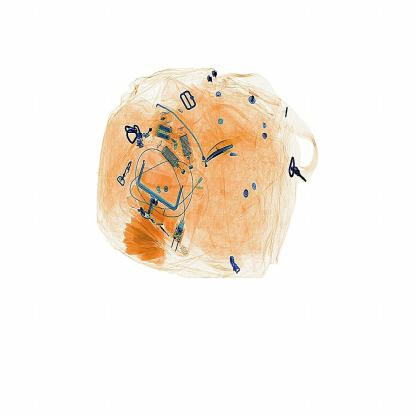pliers: (196, 132, 247, 169)
